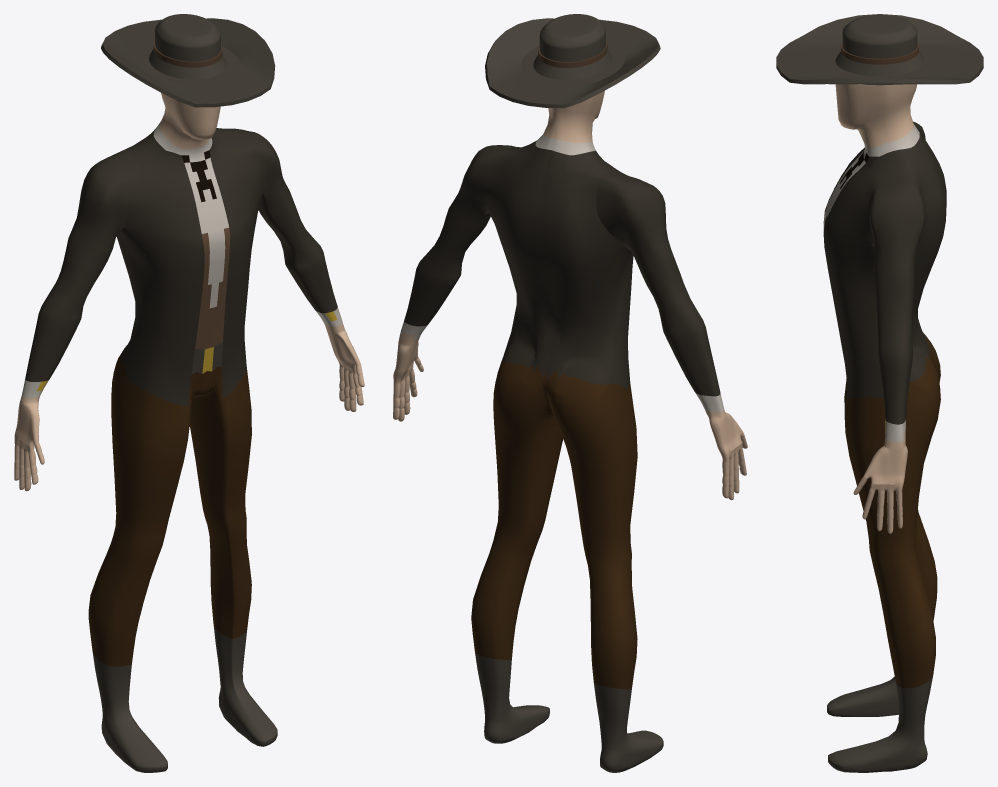
File: EnemyIdle.fbx
3 views of the same model, side by side, from view 1: azimuth 30°, elevation 25°; view 2: azimuth 150°, elevation 25°; view 3: azimuth 270°, elevation 25° (orthographic).
Visible parts, largest first — view 1: HumanIdle; view 2: HumanIdle; view 3: HumanIdle.
Boxes of the visible parts, bbox=[...] form: HumanIdle: bbox=[14, 14, 364, 772]; HumanIdle: bbox=[393, 14, 747, 772]; HumanIdle: bbox=[776, 14, 983, 772].
Bounding box in the file's own units: 26.76 × 55.18 × 14.51.
